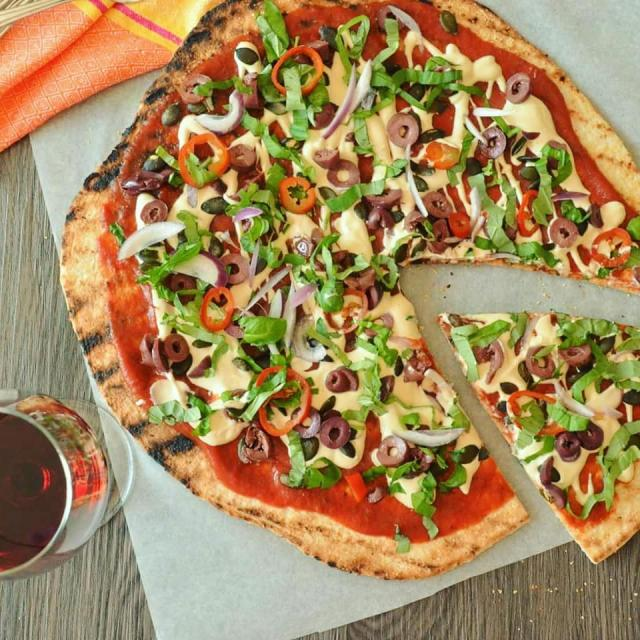black_olives: (138, 332, 193, 373), (314, 145, 358, 188), (363, 185, 400, 231), (382, 107, 422, 149), (538, 458, 563, 509), (374, 432, 407, 469), (317, 412, 349, 450), (240, 427, 272, 461), (525, 346, 555, 379), (550, 212, 576, 247), (327, 367, 358, 396), (480, 129, 508, 161), (220, 253, 248, 285), (506, 70, 536, 99), (421, 221, 449, 252), (170, 273, 196, 305), (227, 144, 253, 172), (423, 190, 449, 218), (557, 428, 579, 459), (560, 340, 585, 363), (580, 421, 602, 447), (359, 281, 379, 309), (401, 356, 424, 380), (140, 200, 162, 222), (408, 208, 424, 230)
pizza: (63, 0, 640, 581), (434, 316, 640, 565)
